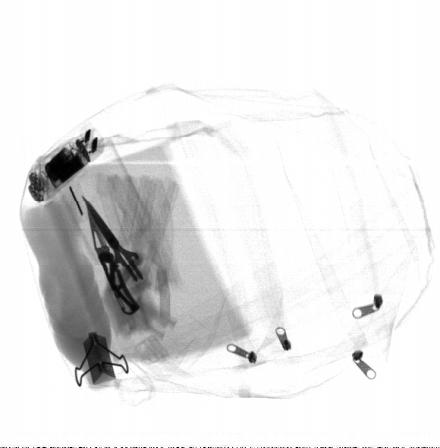Knife: (85, 201, 141, 315)
Scissors: (81, 193, 170, 333)
